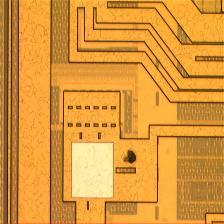PARTICLE: (121, 147, 141, 167)
